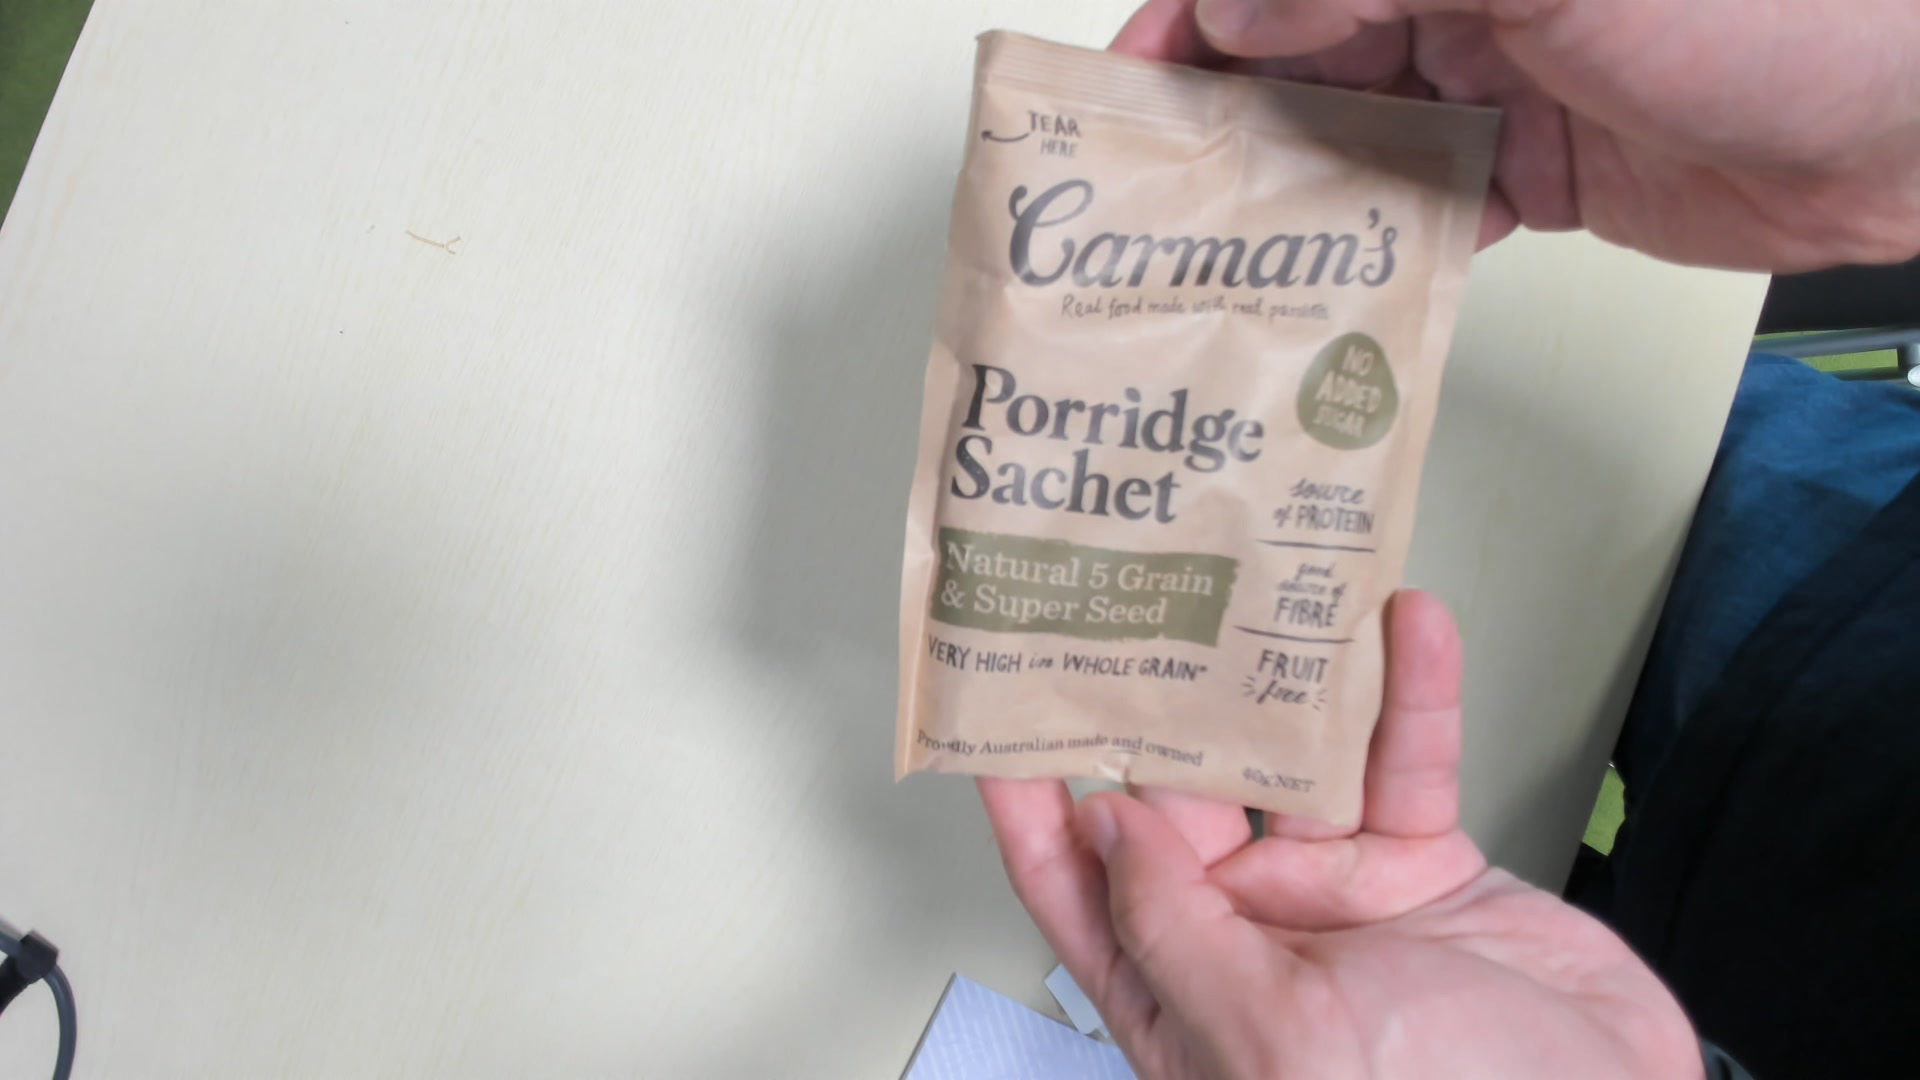InstantMeals_0-99g_NonHalal_NonHealthy: (895, 34, 1503, 822)
